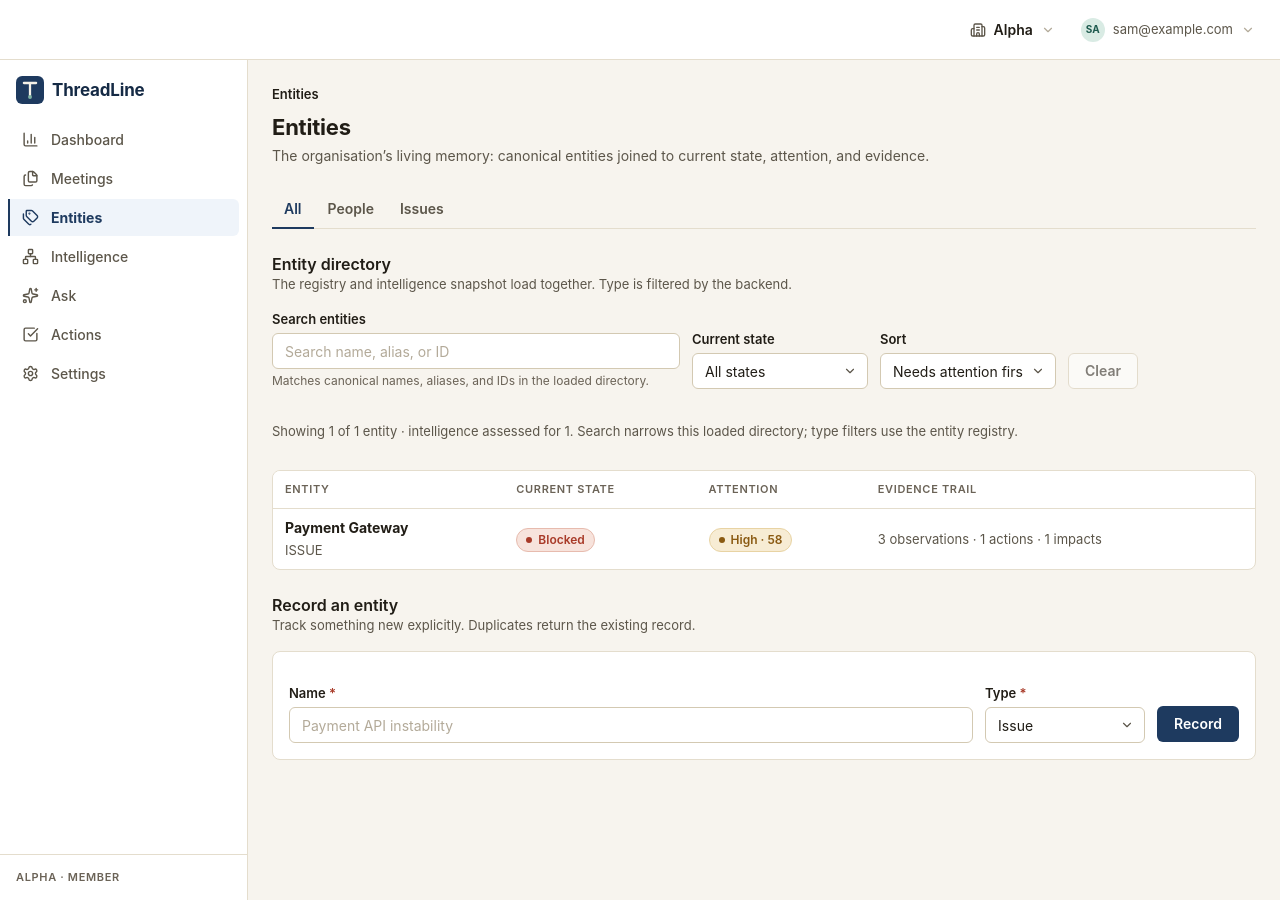
Test: entity directory › switches same-named entities with the organisation
This screenshot has width=1280, height=900.
Expected: the text "Blocked" is shown, x1=516 y1=528 x2=595 y2=552
Expected: the text "Resolved" is not shown
Click the button with aria-label "switch organisation" at [1012, 30], box x1=970 y1=21 x2=1055 y2=38
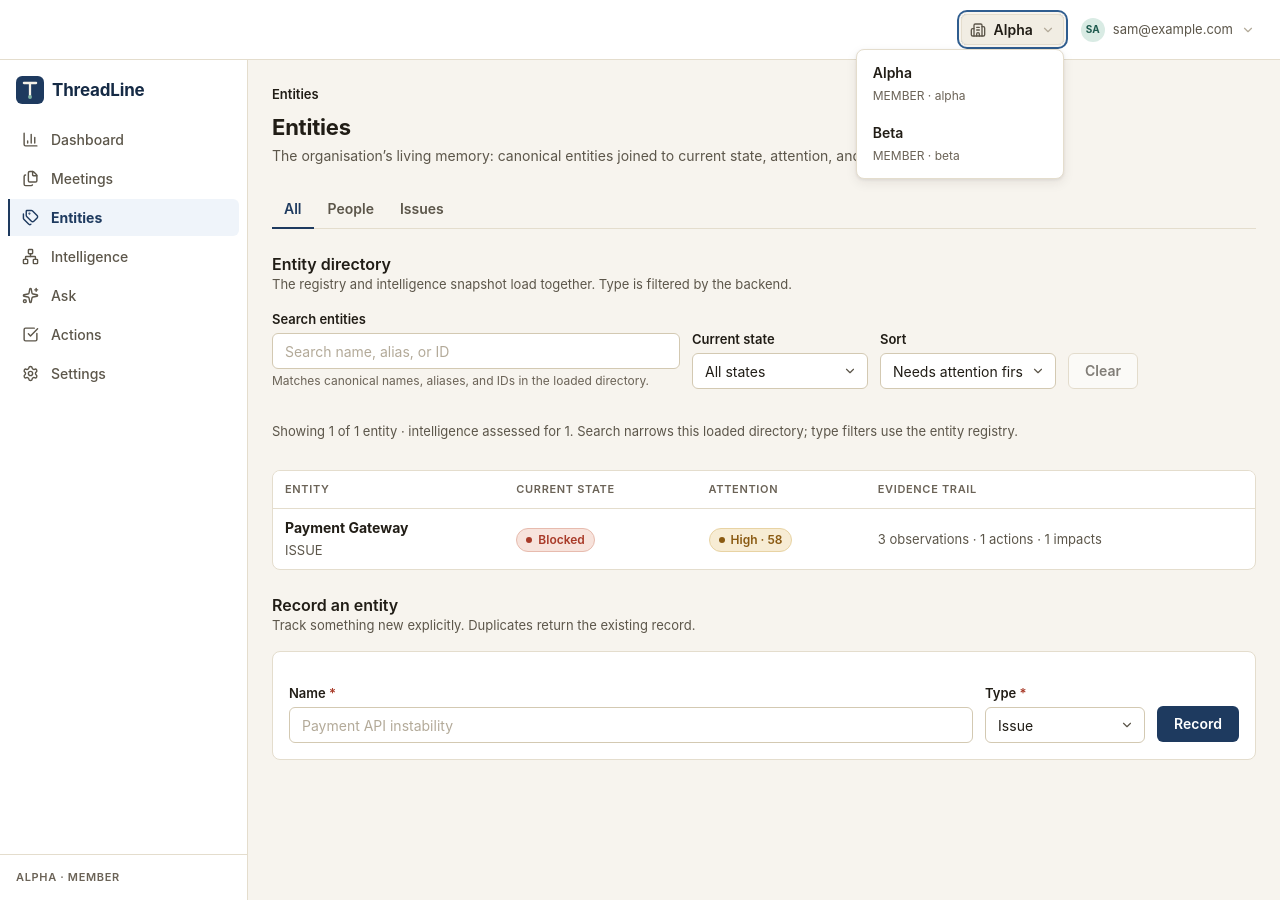
Click the menu item "Beta MEMBER · beta" at [960, 144], box x1=861 y1=114 x2=1059 y2=174
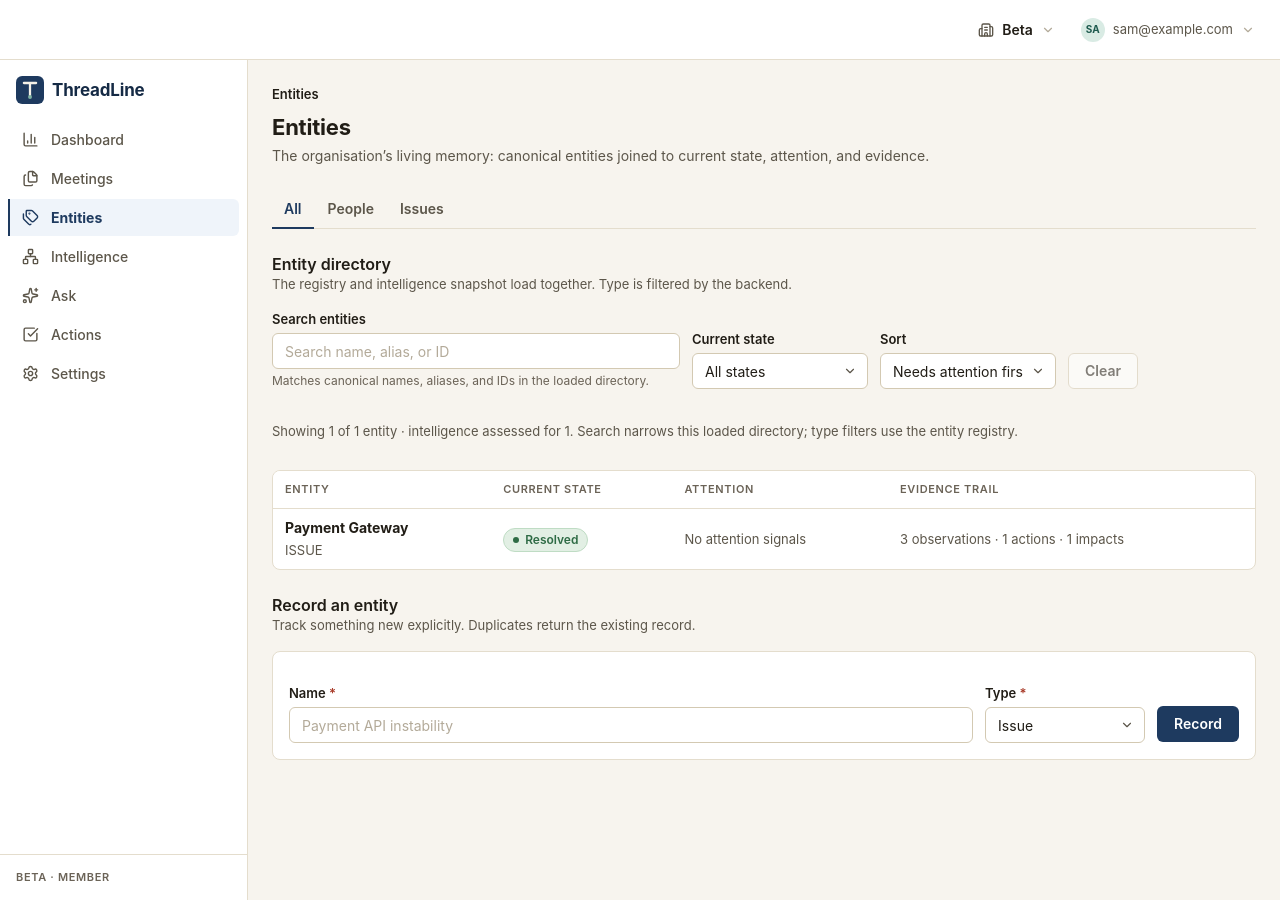
Now the text "Resolved" is shown, box x1=503 y1=528 x2=588 y2=552
Now the text "Blocked" is gone
